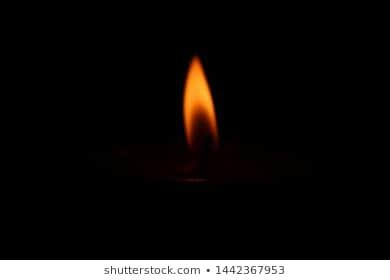fire: (181, 53, 221, 149)
